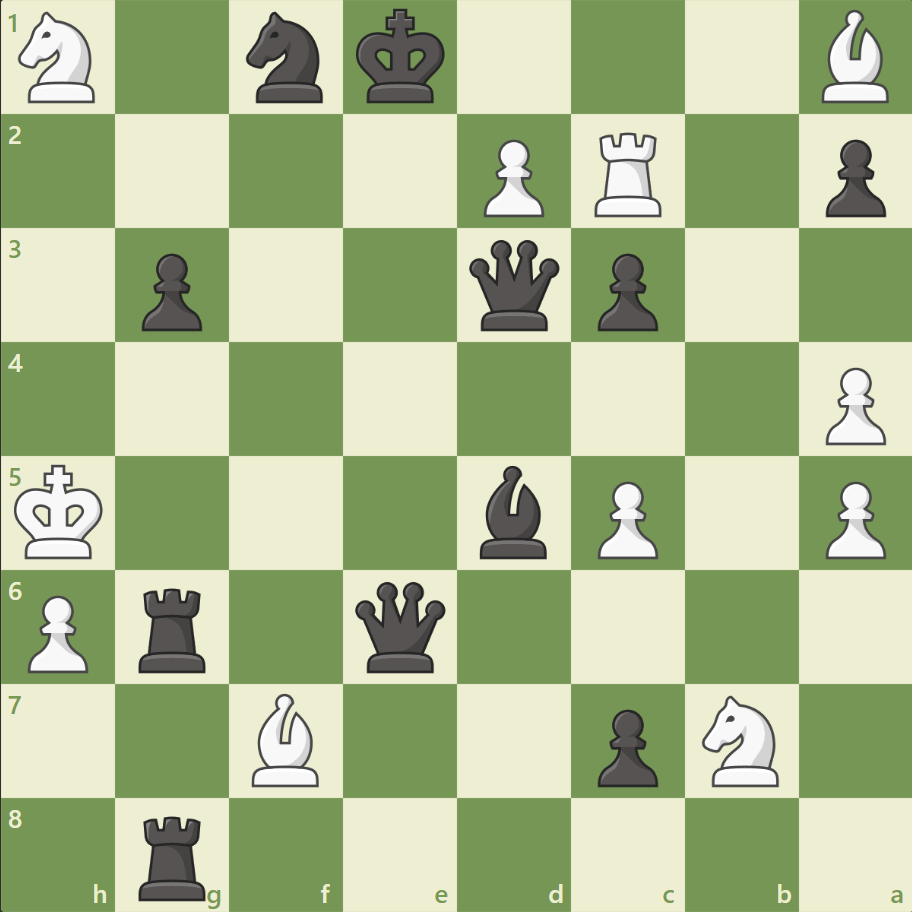B: (244, 687, 328, 790), (812, 6, 896, 109)
K: (11, 458, 111, 566)
N: (692, 688, 789, 791), (11, 7, 108, 110)
P: (20, 586, 95, 677), (474, 132, 549, 223), (815, 473, 889, 564), (588, 473, 662, 564), (815, 359, 889, 450)
R: (587, 125, 670, 222)
b: (471, 460, 555, 563)
k: (351, 4, 451, 112)
n: (238, 7, 335, 110)
p: (133, 246, 208, 337), (588, 700, 662, 791), (588, 246, 662, 337), (815, 132, 889, 223)
q: (351, 576, 450, 676), (464, 236, 563, 335)
r: (133, 806, 215, 904), (133, 579, 215, 676)
